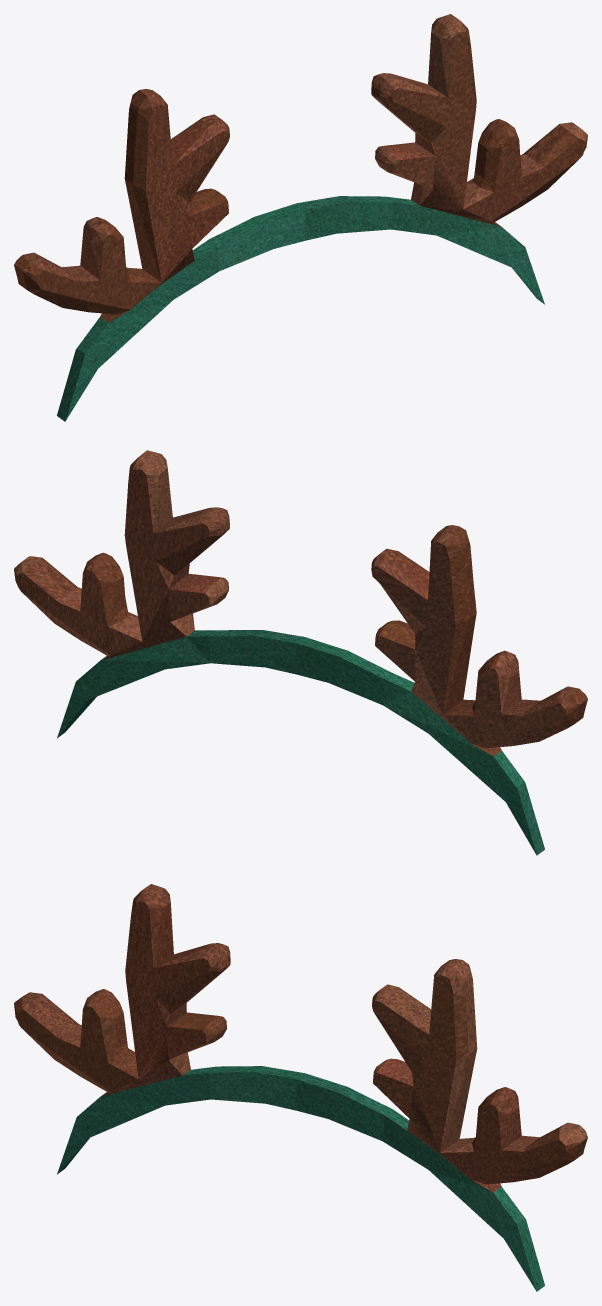
The model's file is antlers 2.fbx.
The picture shows the model from 3 angles, top to bottom: view 1: azimuth 30°, elevation 25°; view 2: azimuth 150°, elevation 25°; view 3: azimuth 330°, elevation 25°; orthographic projection.
Visible parts, largest first — view 1: horns, band; view 2: horns, band; view 3: horns, band.
Boxes of the visible parts, x1,y1,x2,y2 form: horns: [14, 14, 587, 322]; band: [57, 196, 544, 421]; horns: [14, 450, 587, 756]; band: [57, 630, 544, 855]; horns: [14, 884, 587, 1192]; band: [57, 1066, 544, 1291].
Bounding box in the file's own units: 122 × 62.72 × 8.81.
